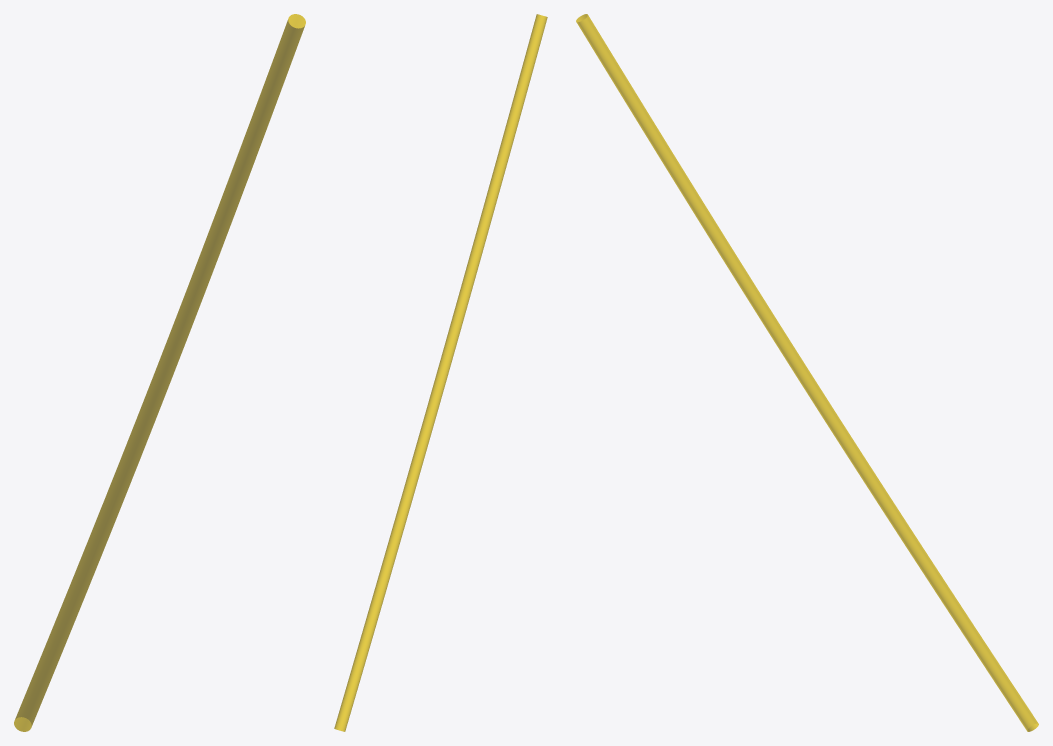
The model's file is Event_84804159_track_20.fbx.
3 views of the same model, side by side, from view 1: azimuth 30°, elevation 25°; view 2: azimuth 150°, elevation 25°; view 3: azimuth 270°, elevation 25° (orthographic). The views are drawn at different scales.
Visible parts, largest first — view 1: Model; view 2: Model; view 3: Model.
Boxes of the visible parts, x1,y1,x2,y2 form: Model: (14, 14, 305, 731); Model: (334, 14, 547, 731); Model: (576, 14, 1038, 731).
Size of the model in its own units: 0.1018 by 2.26 by 1.34.
